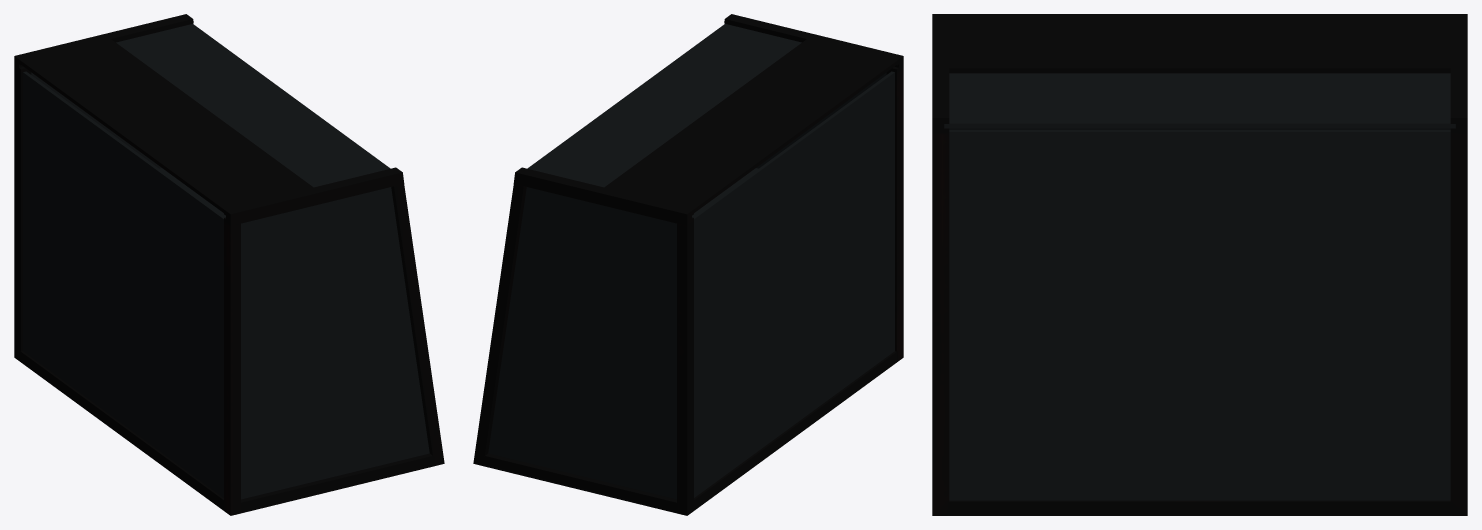
Rendered from vitrine_glass.glb.
The picture shows the model from 3 angles, left to right: view 1: azimuth 30°, elevation 25°; view 2: azimuth 150°, elevation 25°; view 3: azimuth 270°, elevation 25°; orthographic projection. The views are drawn at different scales.
Parts seen in each view (by area): view 1: Glass3, Glass5, Frame, Glass1; view 2: Glass3, Glass6, Frame, Glass1; view 3: Glass4, Frame, Glass1, Glass3.
Part boxes in pixels (<box>): Glass3: <box>23,71,225,497</box>; Glass5: <box>241,187,429,499</box>; Frame: <box>14,14,444,515</box>; Glass1: <box>116,24,390,187</box>; Glass3: <box>692,71,894,497</box>; Glass6: <box>488,187,676,499</box>; Frame: <box>473,14,903,515</box>; Glass1: <box>527,24,801,187</box>; Glass4: <box>949,130,1450,500</box>; Frame: <box>932,14,1467,515</box>; Glass1: <box>944,73,1455,128</box>; Glass3: <box>949,128,1450,129</box>.
Bounding box in the file's own units: 1.26 × 1.69 × 2.2.
Materials: 1 (1 with a texture image).
